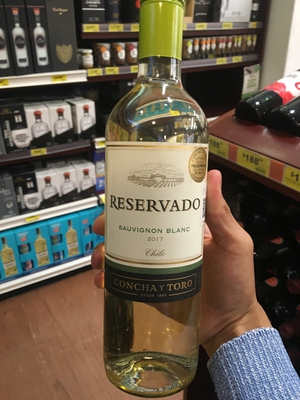reservado sauvignon blanc: (106, 6, 210, 396)
